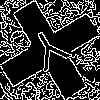Y: (25, 25, 77, 81)
